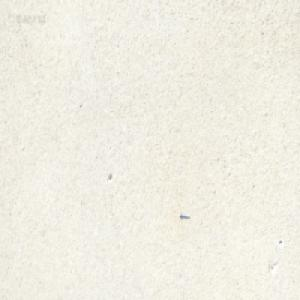Nail: (179, 212, 189, 220)
